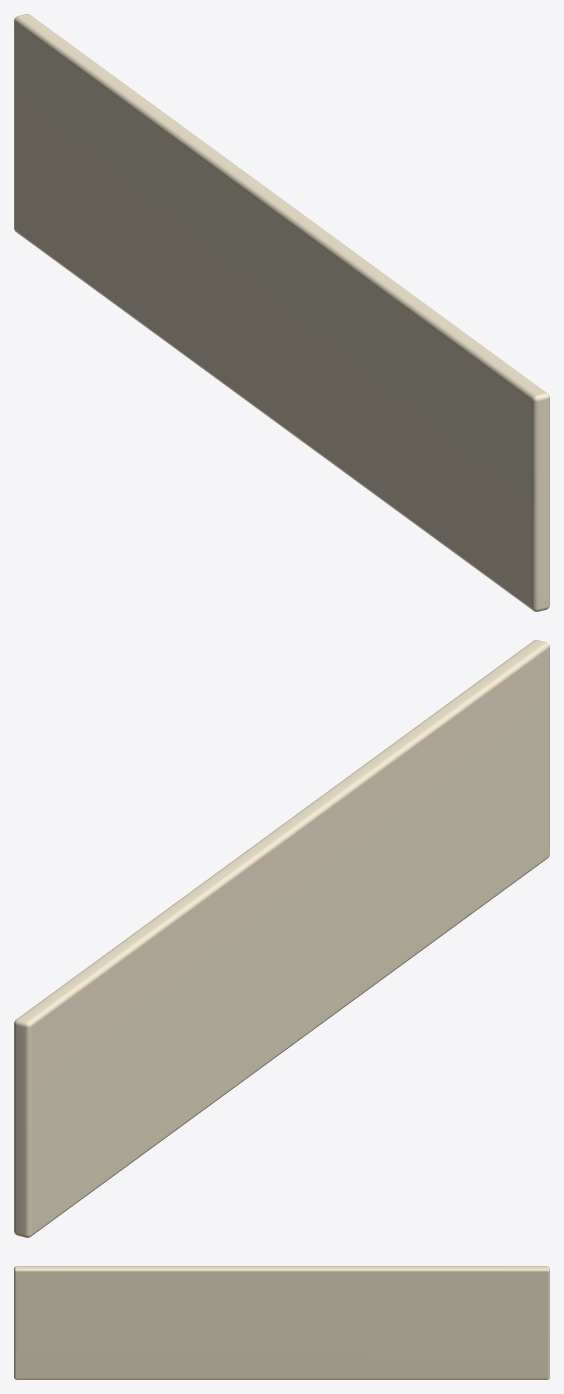
The model's file is SM_EG_Paper_shelf_edge_label_9d1c8b4b6c.fbx.
The picture shows the model from 3 angles, top to bottom: view 1: azimuth 30°, elevation 25°; view 2: azimuth 150°, elevation 25°; view 3: azimuth 270°, elevation 25°; orthographic projection. The views are drawn at different scales.
Parts seen in each view (by area): view 1: SM_EG_Paper_shelf_edge_label_9d1c8b4b6c; view 2: SM_EG_Paper_shelf_edge_label_9d1c8b4b6c; view 3: SM_EG_Paper_shelf_edge_label_9d1c8b4b6c.
Part boxes in pixels (<box>): SM_EG_Paper_shelf_edge_label_9d1c8b4b6c: <box>14,14,549,611</box>; SM_EG_Paper_shelf_edge_label_9d1c8b4b6c: <box>14,640,549,1237</box>; SM_EG_Paper_shelf_edge_label_9d1c8b4b6c: <box>14,1266,549,1379</box>.
Size of what is drawn, in the model's own units: 0.4 by 21 by 4.8.
